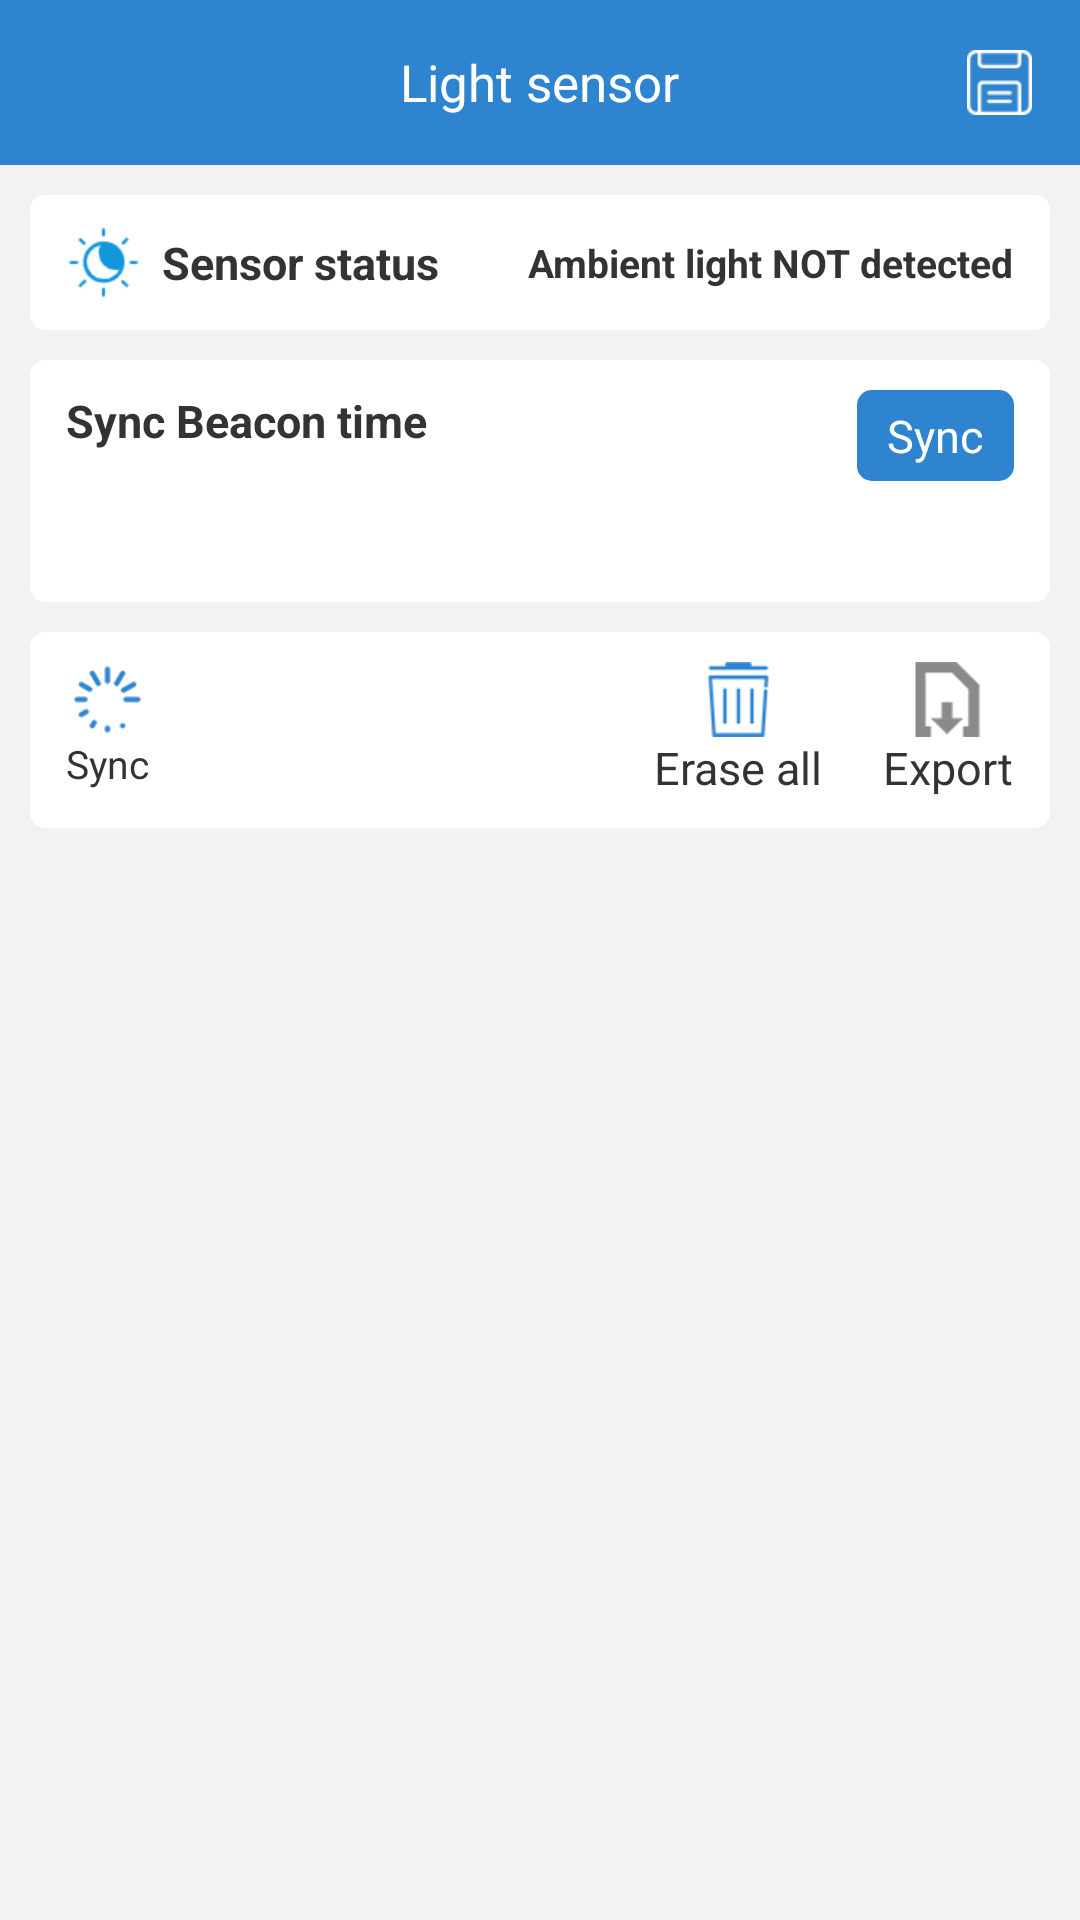

Screen size 1080×1920. Icon name, then its box in pixels as (x1, y1, x2, y2):
save: (967, 50, 1032, 115)
